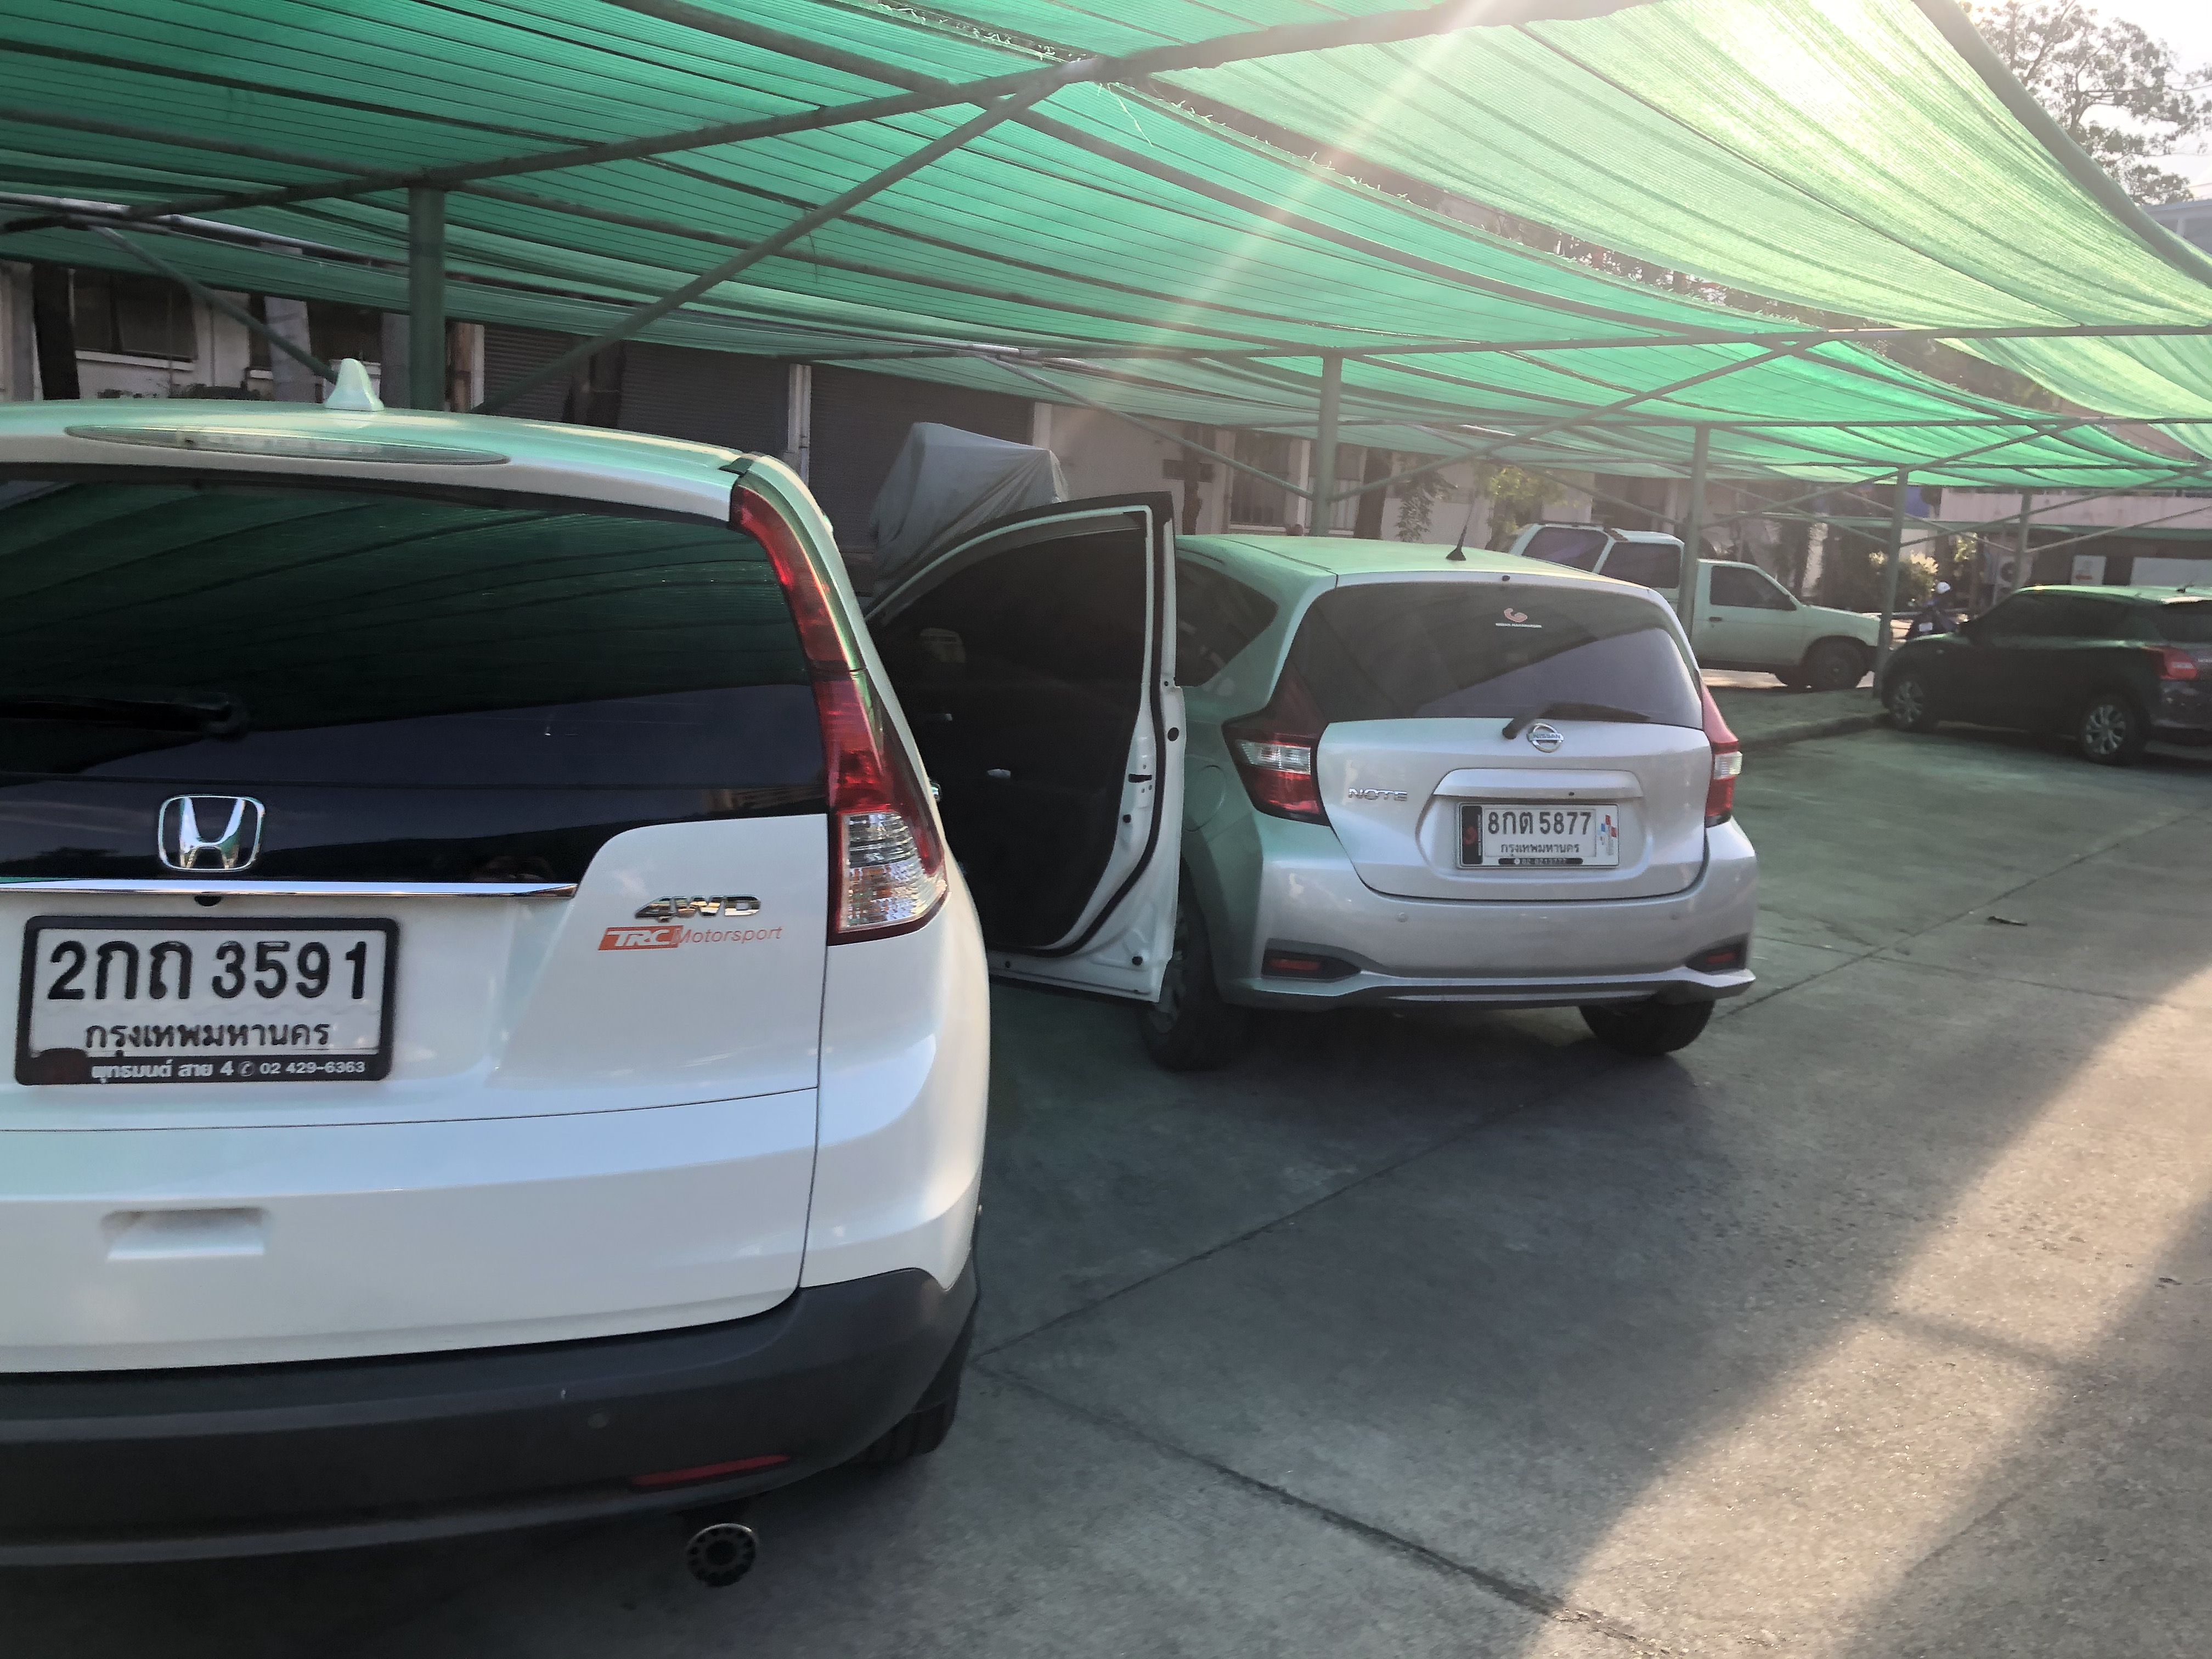in: (35, 927, 381, 1060), (1484, 810, 1595, 859)
out: (21, 913, 401, 1086), (1453, 802, 1623, 873)
